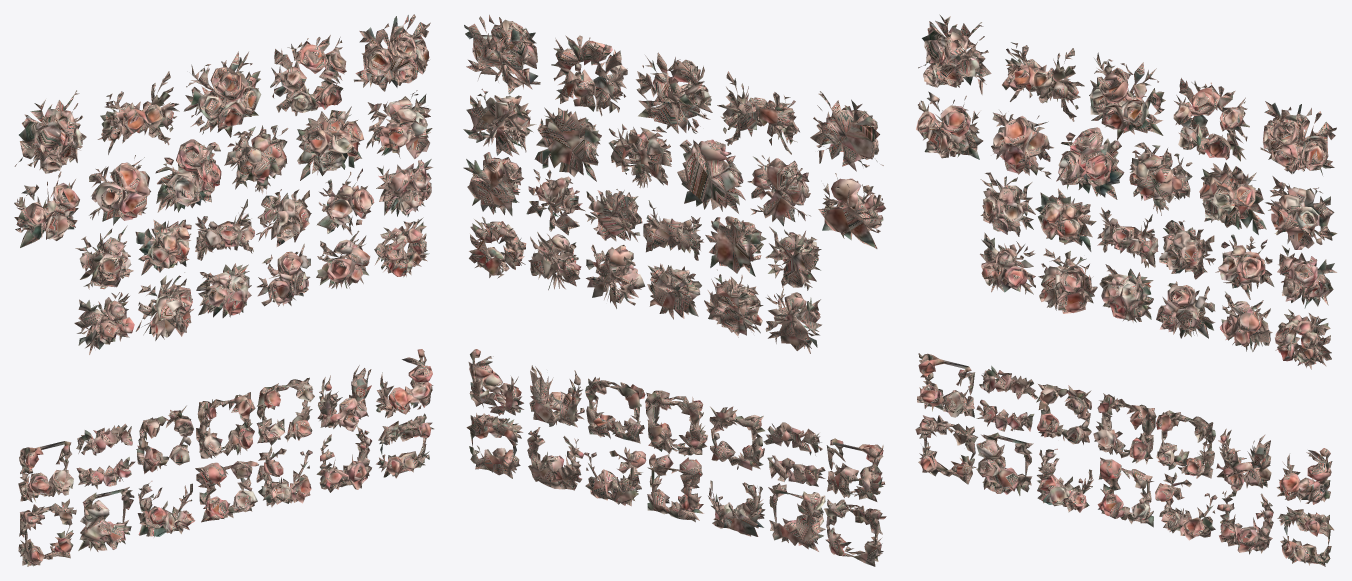
3 views of the same model, side by side, from view 1: azimuth 30°, elevation 25°; view 2: azimuth 150°, elevation 25°; view 3: azimuth 330°, elevation 25° (orthographic).
Parts seen in each view (by area): view 1: Mesh 37, Mesh 24, Mesh 50, Mesh 4, Mesh 23, Mesh 39, Mesh 57, Mesh 16, Mesh 7, Mesh 15, Mesh 31, Mesh 19 (+25 smaller); view 2: Mesh 37, Mesh 24, Mesh 50, Mesh 23, Mesh 39, Mesh 4, Mesh 7, Mesh 57, Mesh 16, Mesh 15, Mesh 31, Mesh 25 (+25 smaller); view 3: Mesh 24, Mesh 37, Mesh 50, Mesh 4, Mesh 23, Mesh 39, Mesh 57, Mesh 16, Mesh 7, Mesh 31, Mesh 15, Mesh 19 (+25 smaller).
Boxes of the visible parts, box(x1,y1,x2,y2) form: Mesh 37: box(270, 35, 346, 115); Mesh 24: box(183, 51, 261, 137); Mesh 50: box(354, 14, 430, 91); Mesh 4: box(14, 90, 86, 173); Mesh 23: box(155, 139, 221, 212); Mesh 39: box(296, 106, 363, 180); Mesh 57: box(366, 90, 432, 158); Mesh 16: box(97, 71, 179, 154); Mesh 7: box(14, 171, 79, 247); Mesh 15: box(89, 155, 150, 225); Mesh 31: box(224, 125, 288, 193); Mesh 19: box(135, 272, 193, 340); Mesh 37: box(551, 35, 627, 116); Mesh 24: box(636, 52, 712, 133); Mesh 50: box(464, 14, 540, 94); Mesh 23: box(677, 139, 745, 213); Mesh 39: box(534, 107, 601, 181); Mesh 4: box(810, 91, 883, 171); Mesh 7: box(818, 173, 885, 248); Mesh 57: box(463, 88, 536, 156); Mesh 16: box(717, 71, 799, 154); Mesh 15: box(747, 155, 810, 226); Mesh 31: box(608, 124, 671, 188); Mesh 25: box(645, 390, 707, 456); Mesh 24: box(1089, 52, 1165, 140); Mesh 37: box(1173, 78, 1249, 161); Mesh 50: box(1260, 101, 1336, 175); Mesh 4: box(918, 14, 991, 94); Mesh 23: box(1056, 127, 1124, 199); Mesh 39: box(1199, 162, 1266, 234); Mesh 57: box(1265, 176, 1337, 249); Mesh 16: box(1002, 42, 1084, 121); Mesh 7: box(916, 91, 983, 159); Mesh 31: box(1129, 142, 1192, 215); Mesh 15: box(991, 110, 1053, 178); Mesh 19: box(1038, 248, 1097, 313).
Bounding box in the file's own units: 1.8 × 1.9 × 0.1591.
37 materials, 37 textured.
